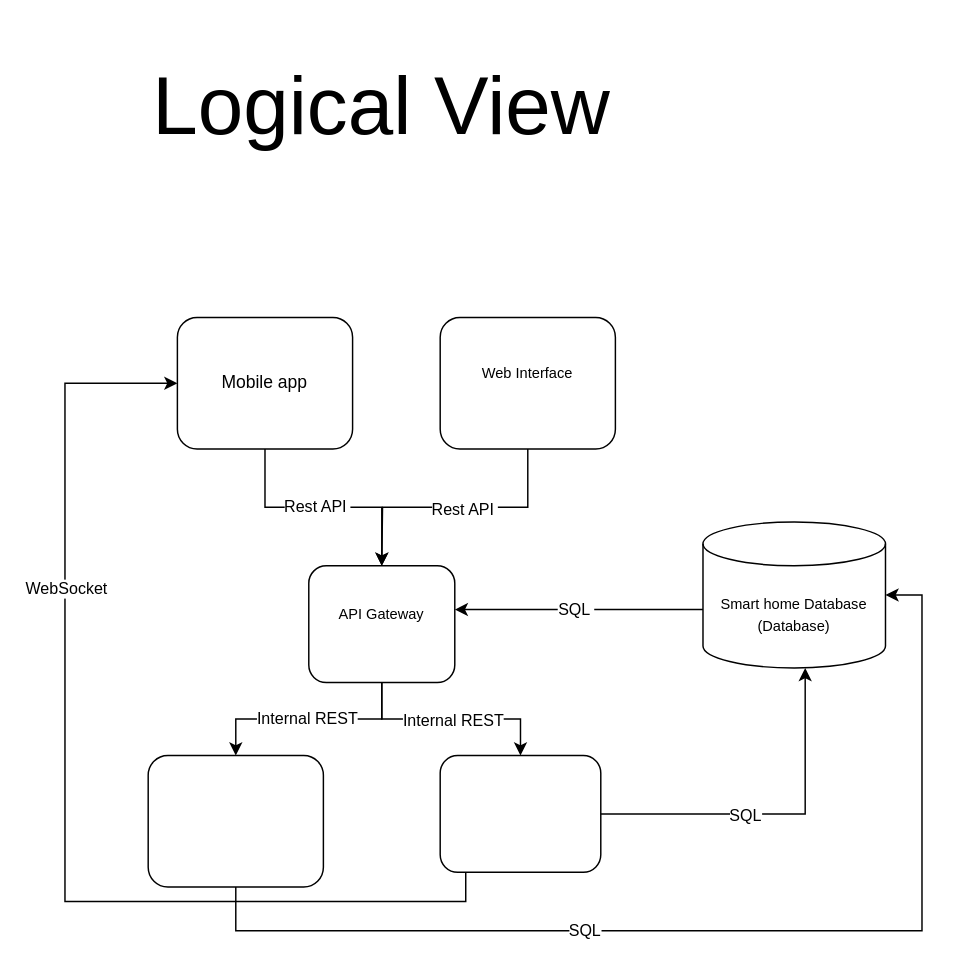
This 959x968 diagram has some shape labels left out. Here are the shapes that lost their labels. From the top down, the box of each, then its label:
(147, 754, 323, 887): Device Manager (Backend service)
(439, 754, 601, 872): Security Service (Backend Service)
